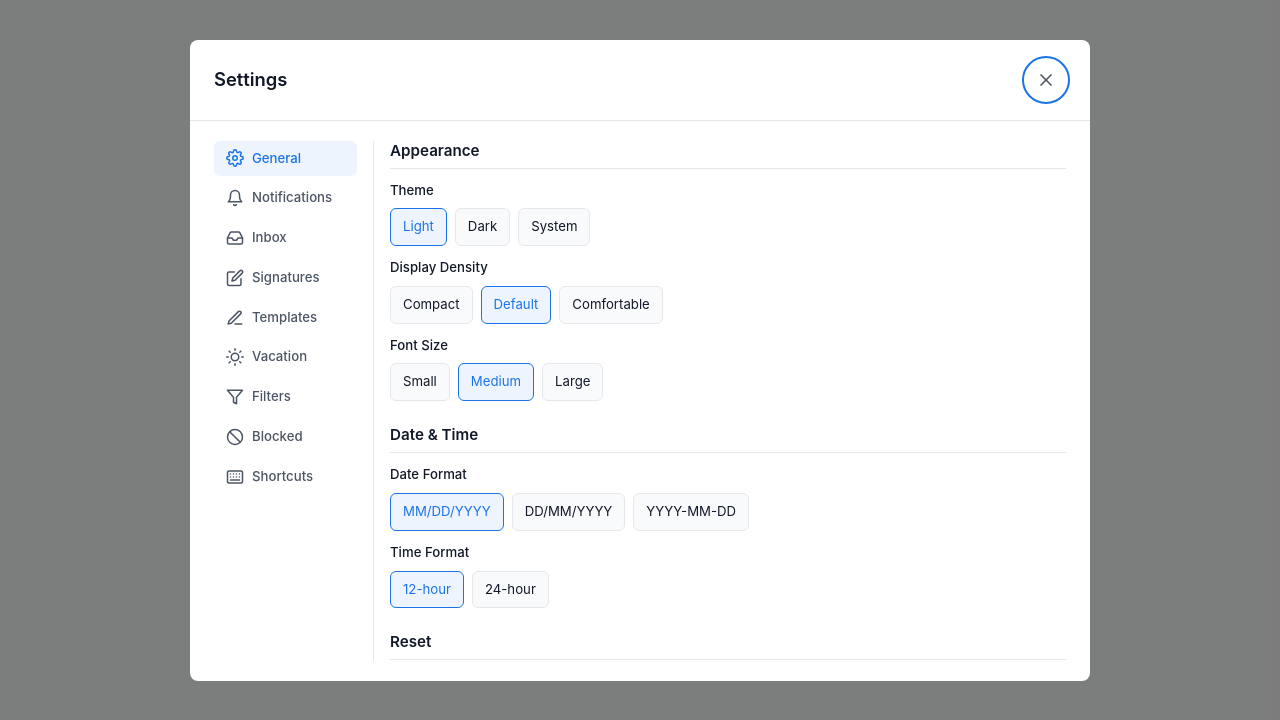
Test case: SettingsModal - Tab navigation › switches to Notifications tab when clicked
This screenshot has width=1280, height=720.
Click the button "Notifications" at (286, 198), box [214,180,357,216]
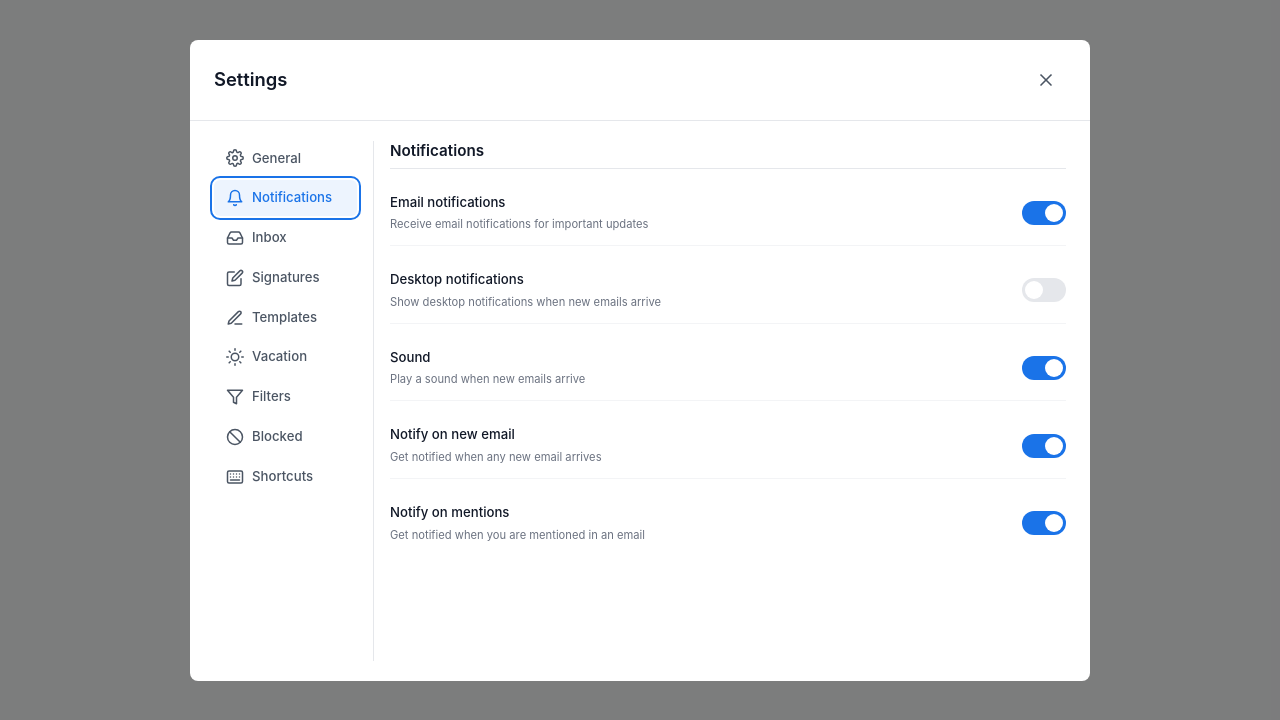
Expected: the text "Desktop notifications" is shown, [390,271,524,287]
